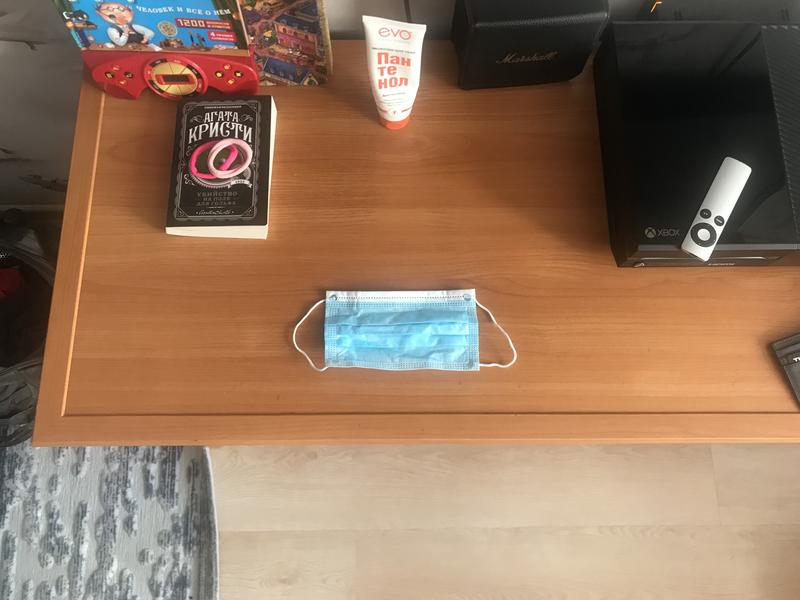medical_mask: (293, 289, 516, 374)
